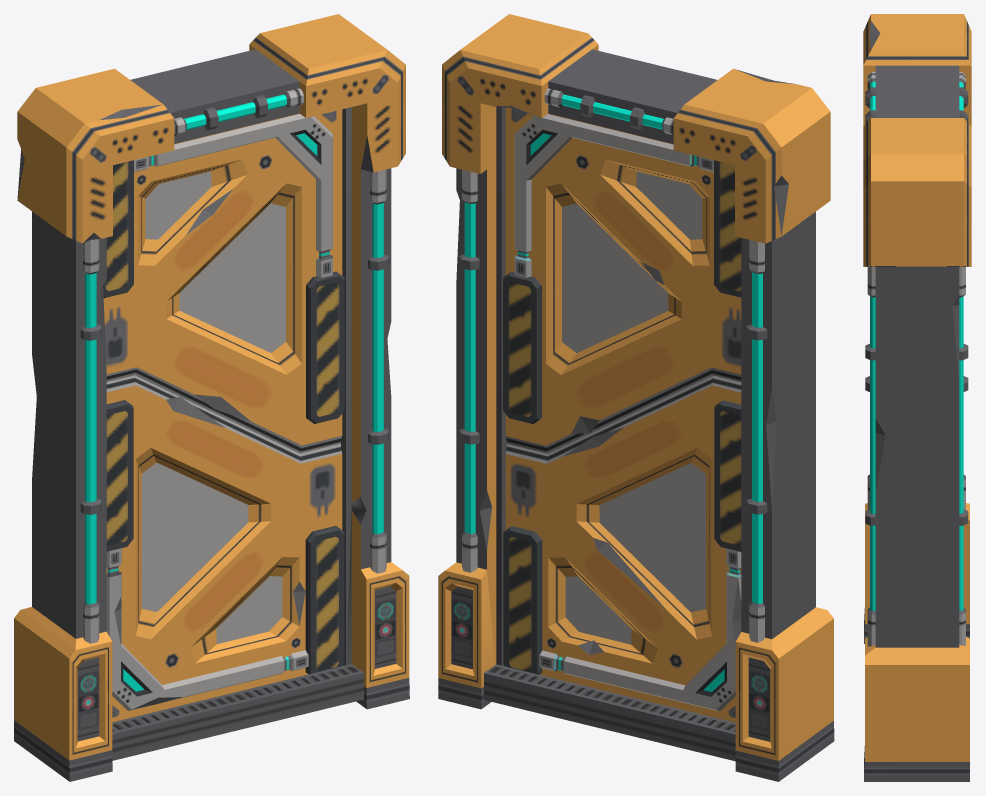
Rendered from SM_Bld_Door_Single_Large_01.fbx.
The picture shows the model from 3 angles, left to right: view 1: azimuth 30°, elevation 25°; view 2: azimuth 150°, elevation 25°; view 3: azimuth 270°, elevation 25°; orthographic projection. The views are drawn at different scales.
Visible parts, largest first — view 1: SM_Bld_Door_Single_Large_01; view 2: SM_Bld_Door_Single_Large_01; view 3: SM_Bld_Door_Single_Large_01.
Boxes of the visible parts, x1,y1,x2,y2 form: SM_Bld_Door_Single_Large_01: [14, 14, 409, 781]; SM_Bld_Door_Single_Large_01: [438, 14, 834, 781]; SM_Bld_Door_Single_Large_01: [863, 14, 971, 781].
Bounding box in the file's own units: 150 × 274 × 43.45.
